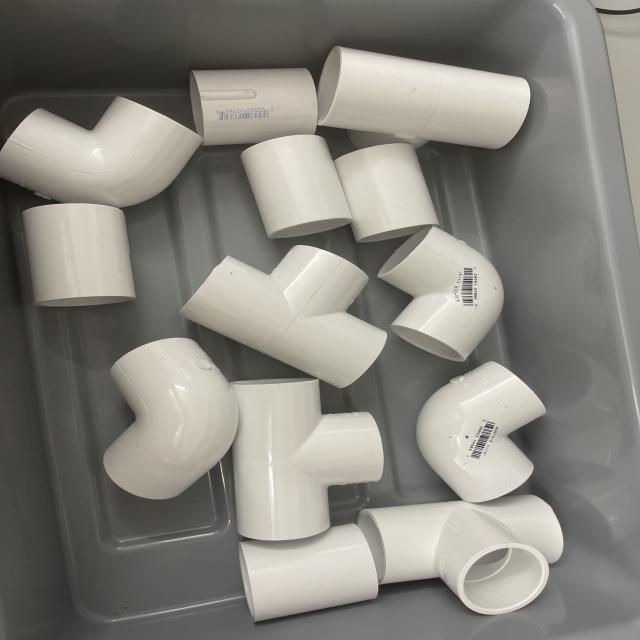L Joint: (101, 336, 243, 505), (0, 97, 204, 209), (412, 361, 548, 508)
T Joint: (179, 245, 388, 389)
